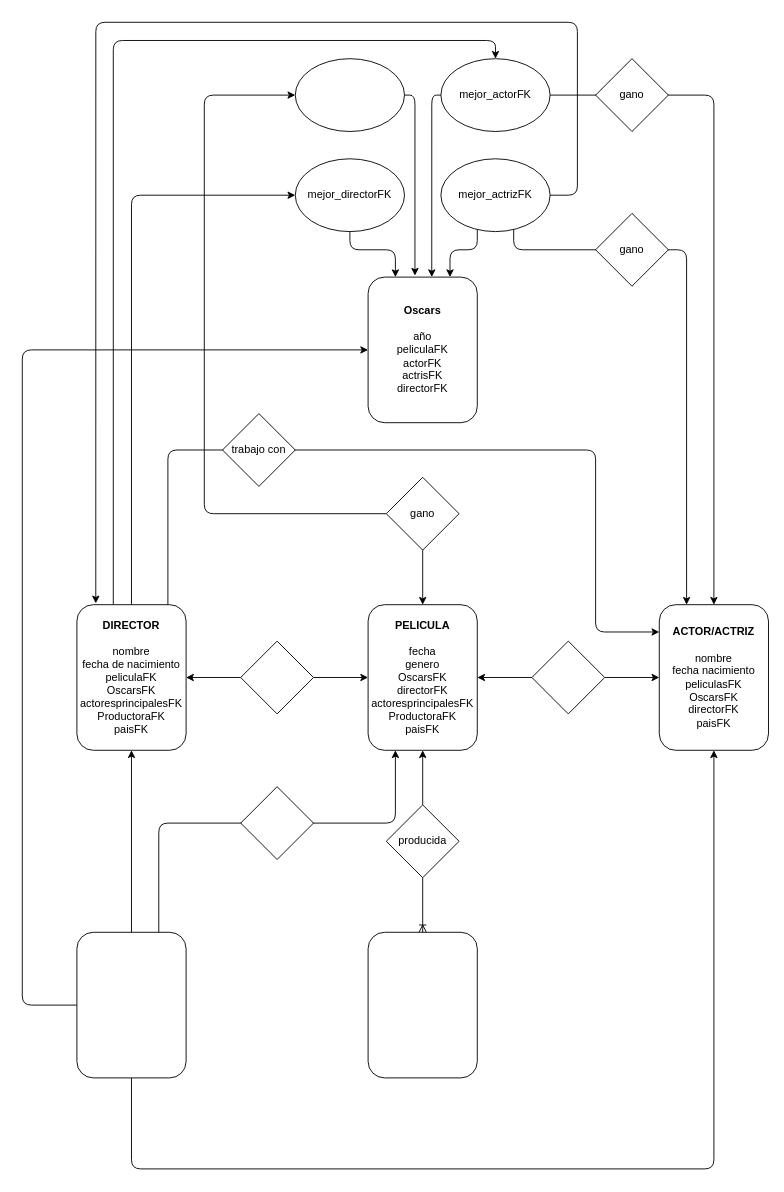
This 784x1192 diagram has some shape labels left out. Here are the shapes that lost their labels. From the top down, the box of each, then its label:
(294, 58, 404, 131): mejor_peliculaFK
(240, 640, 313, 714): dirigio
(531, 640, 605, 714): actua
(240, 786, 313, 859): tiene
(76, 931, 186, 1078): PAIS peliculaFK actor/actrizFK directorFK oscarFK
(367, 931, 477, 1078): PRODUCTORA peliculaFK inicio de activades vigente
